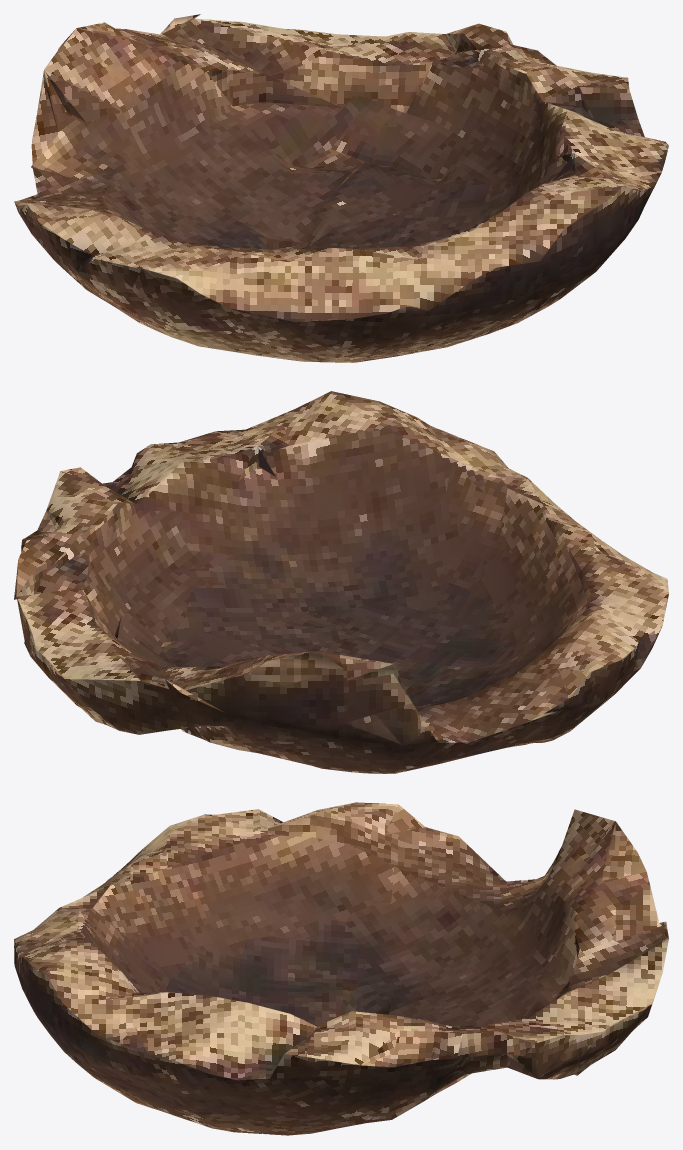
The model's file is b_bowl.glb.
3 views of the same model, one above another, from view 1: azimuth 30°, elevation 25°; view 2: azimuth 150°, elevation 25°; view 3: azimuth 270°, elevation 25° (orthographic). The views are drawn at different scales.
Visible parts, largest first — view 1: body; view 2: body; view 3: body.
Boxes of the visible parts, x1,y1,x2,y2 form: body: (14,14,668,362); body: (14,391,668,773); body: (14,802,668,1135).
Size of the model in its own units: 0.3122 by 0.0937 by 0.3077.
Materials: 1 (1 with a texture image).
